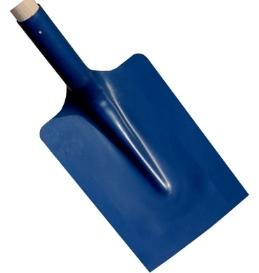PELLE: (7, 0, 259, 273)
